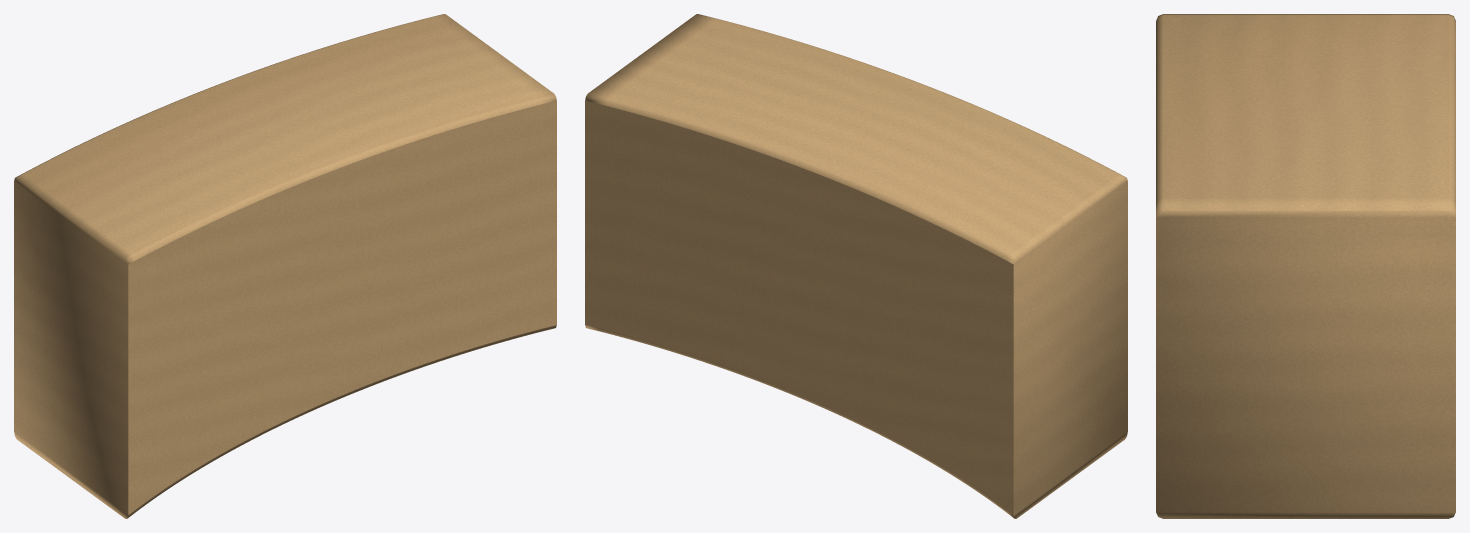
The model's file is 4-curved-wood-arch-sector-2.fbx.
3 views of the same model, side by side, from view 1: azimuth 30°, elevation 25°; view 2: azimuth 150°, elevation 25°; view 3: azimuth 270°, elevation 25° (orthographic). The views are drawn at different scales.
Visible parts, largest first — view 1: curved-wood-arch-sector-2; view 2: curved-wood-arch-sector-2; view 3: curved-wood-arch-sector-2.
Boxes of the visible parts, x1,y1,x2,y2 form: curved-wood-arch-sector-2: (14, 14, 556, 518); curved-wood-arch-sector-2: (585, 14, 1127, 518); curved-wood-arch-sector-2: (1156, 14, 1455, 518).
Size of the model in its own units: 6500 by 4651 by 3000.
Materials: 1 (1 with a texture image).
